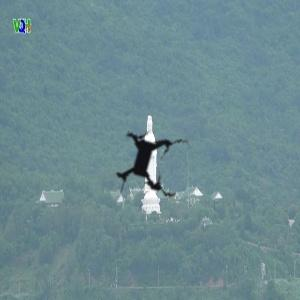drone: (82, 94, 218, 230)
